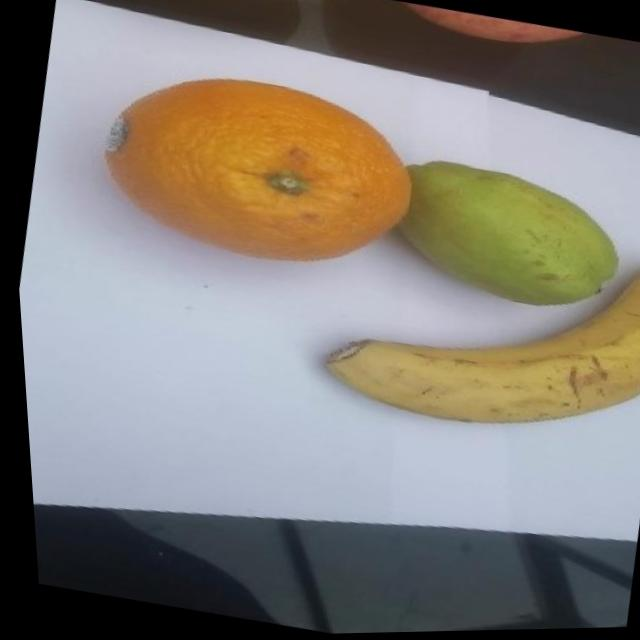Banana: (304, 199, 640, 462)
Orange: (82, 51, 430, 289)
